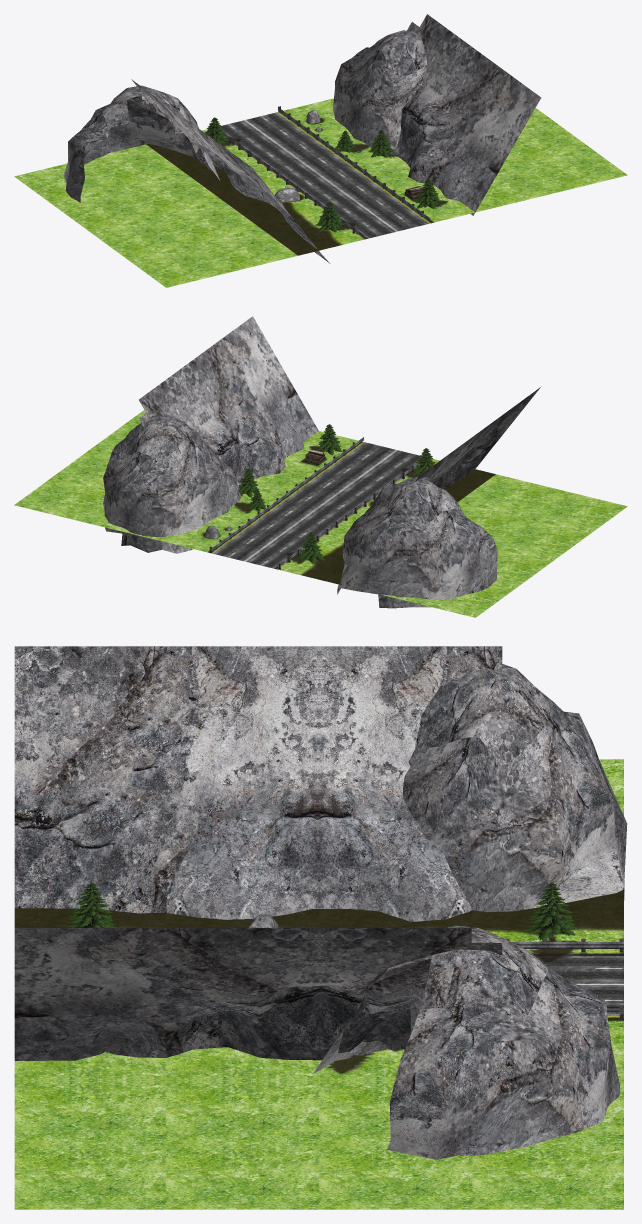
Rendered from scene4_start.FBX.
The picture shows the model from 3 angles, top to bottom: view 1: azimuth 30°, elevation 25°; view 2: azimuth 150°, elevation 25°; view 3: azimuth 270°, elevation 25°; orthographic projection. The views are drawn at different scales.
Parts seen in each view (by area): view 1: scene4_start, wall001, road017, Box062, rock009; view 2: wall001, scene4_start, road017, Box062; view 3: wall001, scene4_start, road017, Box062.
Part boxes in pixels (box(x1,y1,x2,y2)): scene4_start: box(14, 98, 627, 287); wall001: box(63, 14, 541, 263); road017: box(209, 106, 430, 239); Box062: box(204, 117, 441, 232); rock009: box(274, 110, 321, 202); wall001: box(103, 316, 540, 608); scene4_start: box(14, 410, 627, 617); road017: box(209, 437, 429, 569); Box062: box(238, 424, 435, 563); wall001: box(14, 646, 627, 1159); scene4_start: box(14, 759, 623, 1209); road017: box(505, 938, 623, 1018); Box062: box(65, 882, 577, 1047).
Bounding box in the file's own units: 140 × 33.81 × 80.42.
